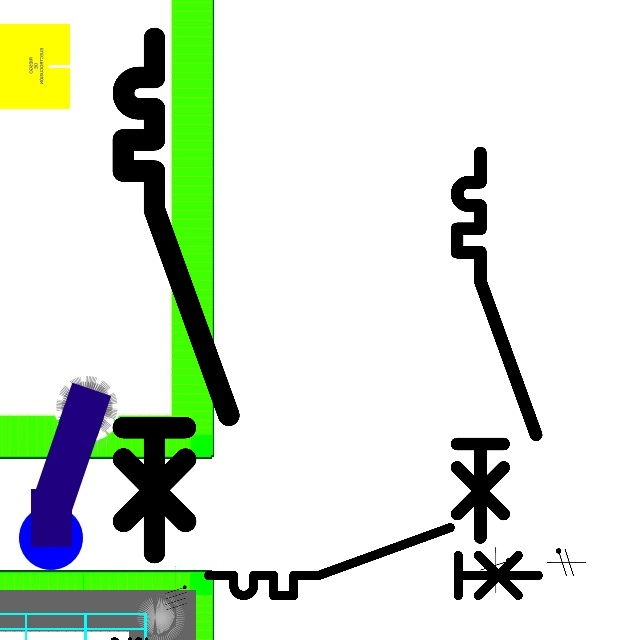interruptor_termomagnetico: (110, 25, 242, 565), (447, 143, 546, 547), (200, 519, 546, 604)
